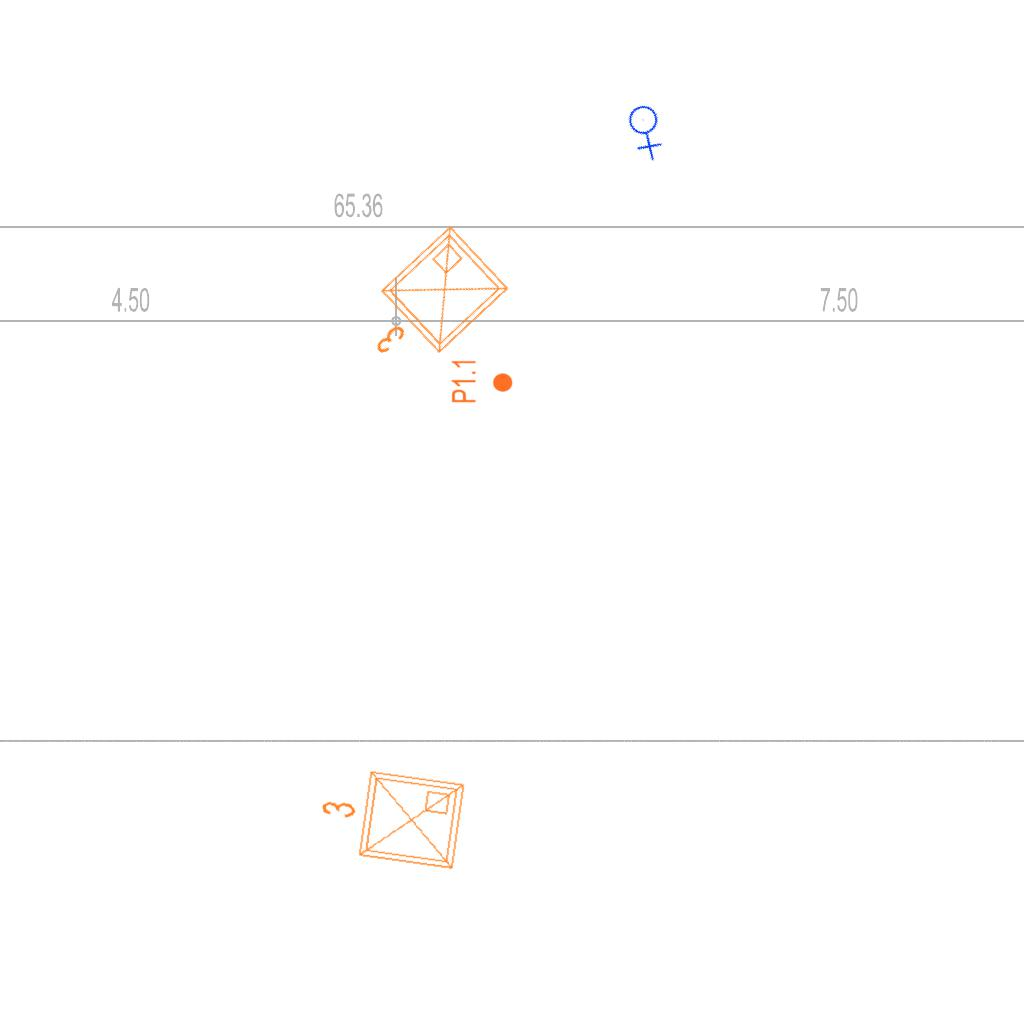Downlight_LED_Einbauleuchten_Flur: (450, 358, 514, 404)
Einbaudownlights_LED_Konferenzraeume: (340, 215, 522, 395), (309, 757, 473, 881)
Elektroanschluss_allgemein_230V_Geraeteanschlussdose_230V: (614, 96, 681, 163)
